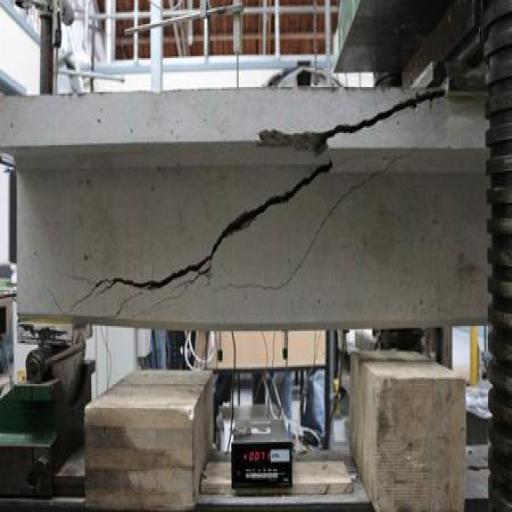spalling: (74, 160, 335, 311), (217, 155, 395, 304), (253, 90, 445, 154)
